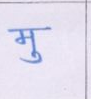u_matra: (21, 52, 44, 64)
